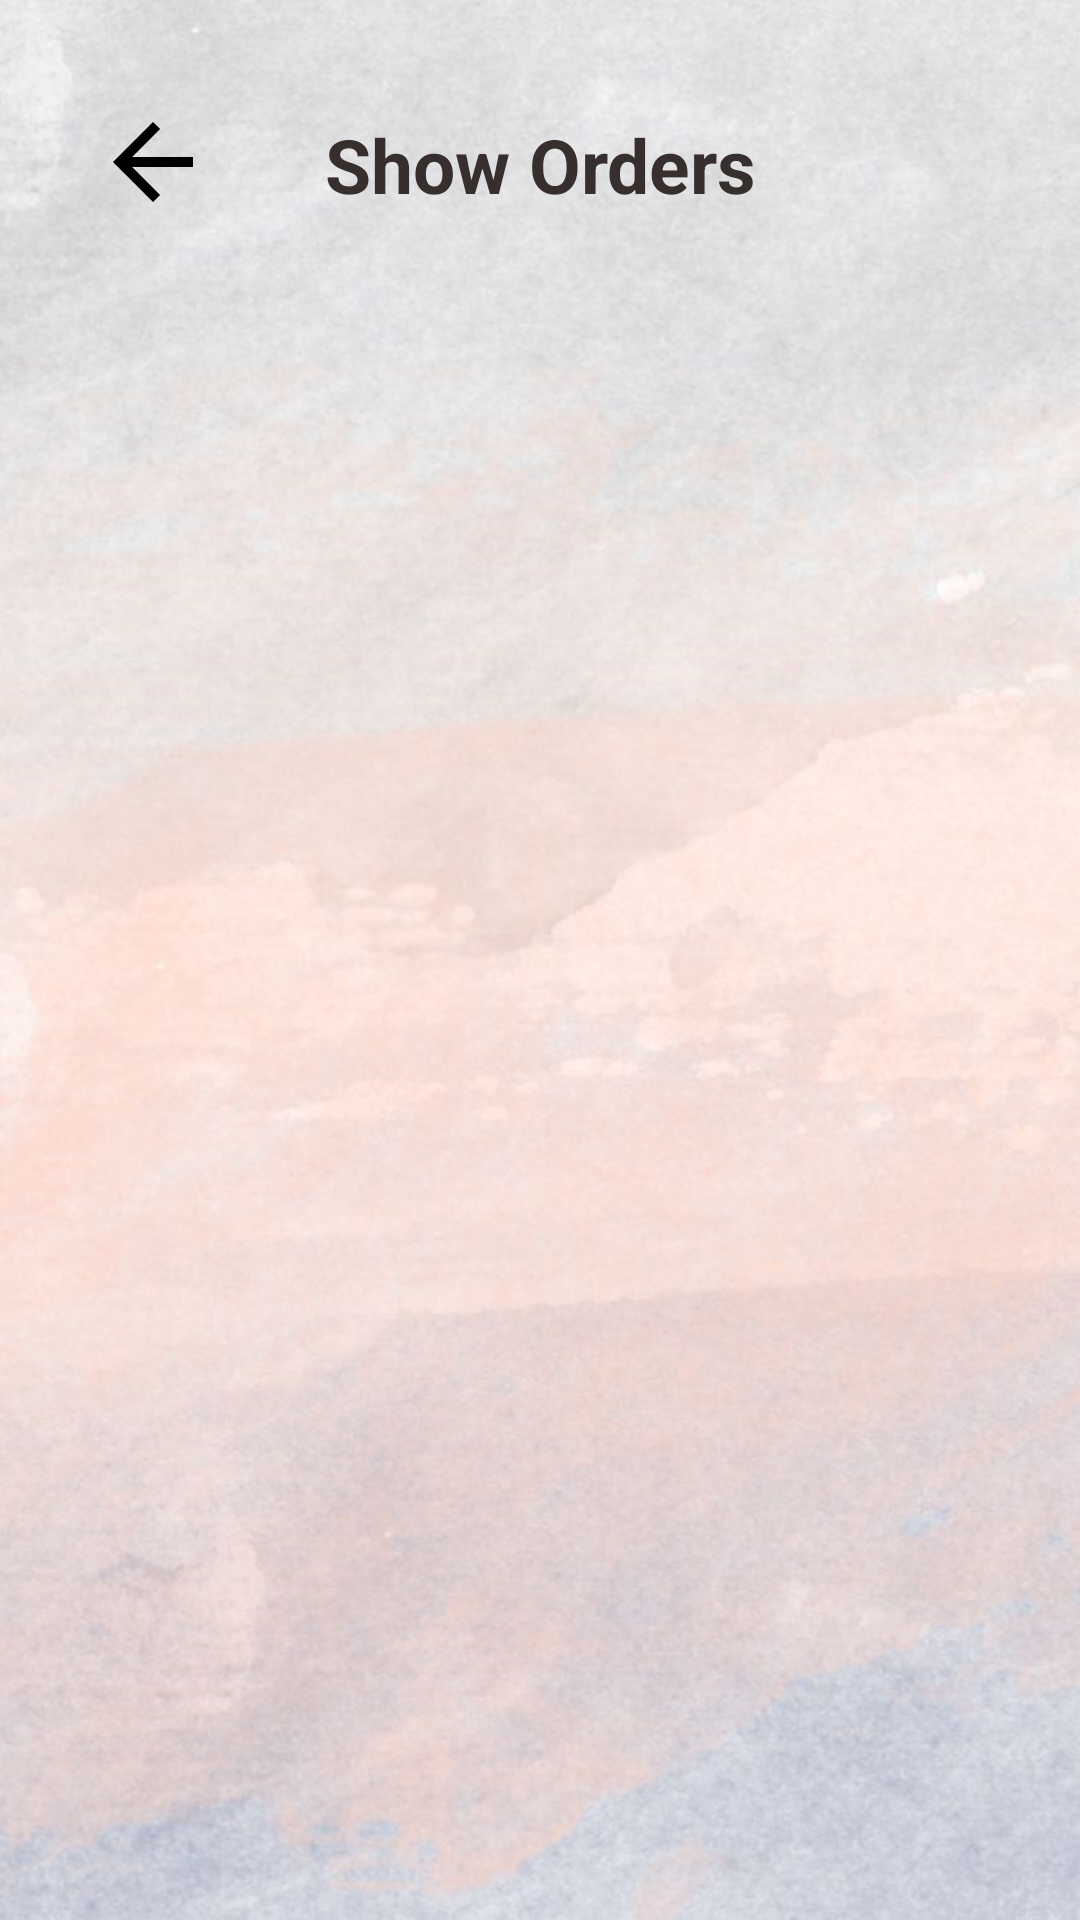

Icons on this 1080x1920 Android screen, each with its box as (x1, y1, x2, y2):
back: (113, 122, 193, 202)
